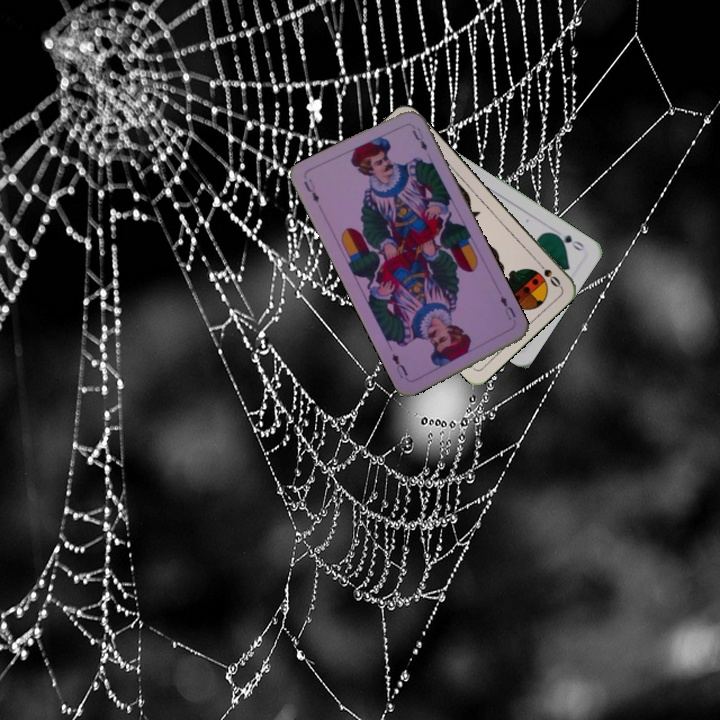EU: (496, 292, 519, 323), (300, 175, 322, 205)
GO: (549, 229, 587, 254)
SO: (532, 256, 563, 290)
